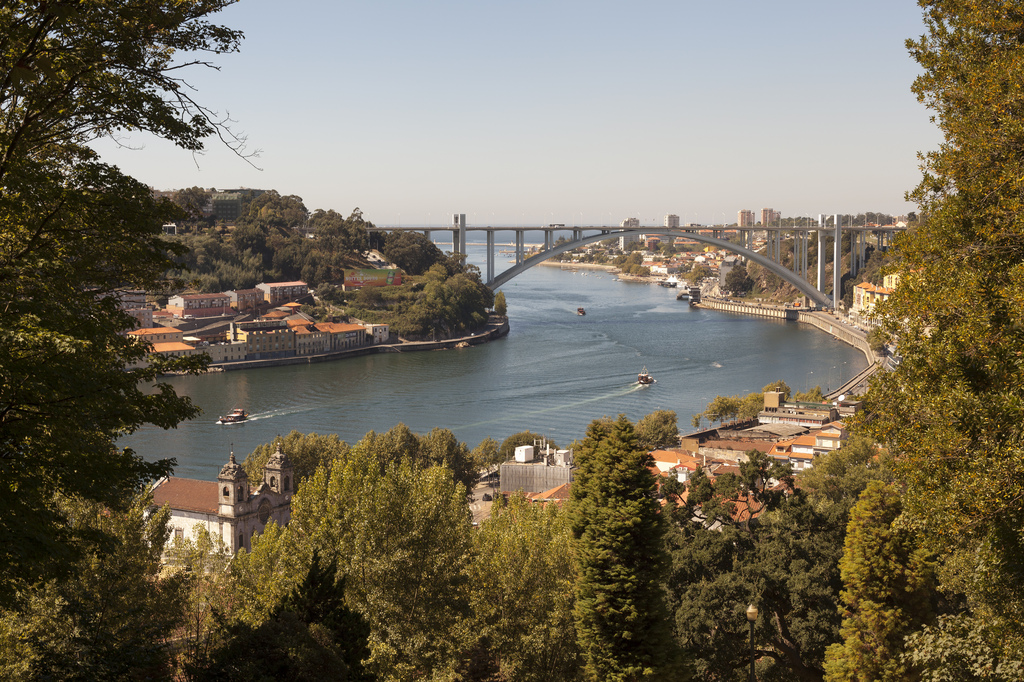arrabida: (381, 211, 905, 314)
